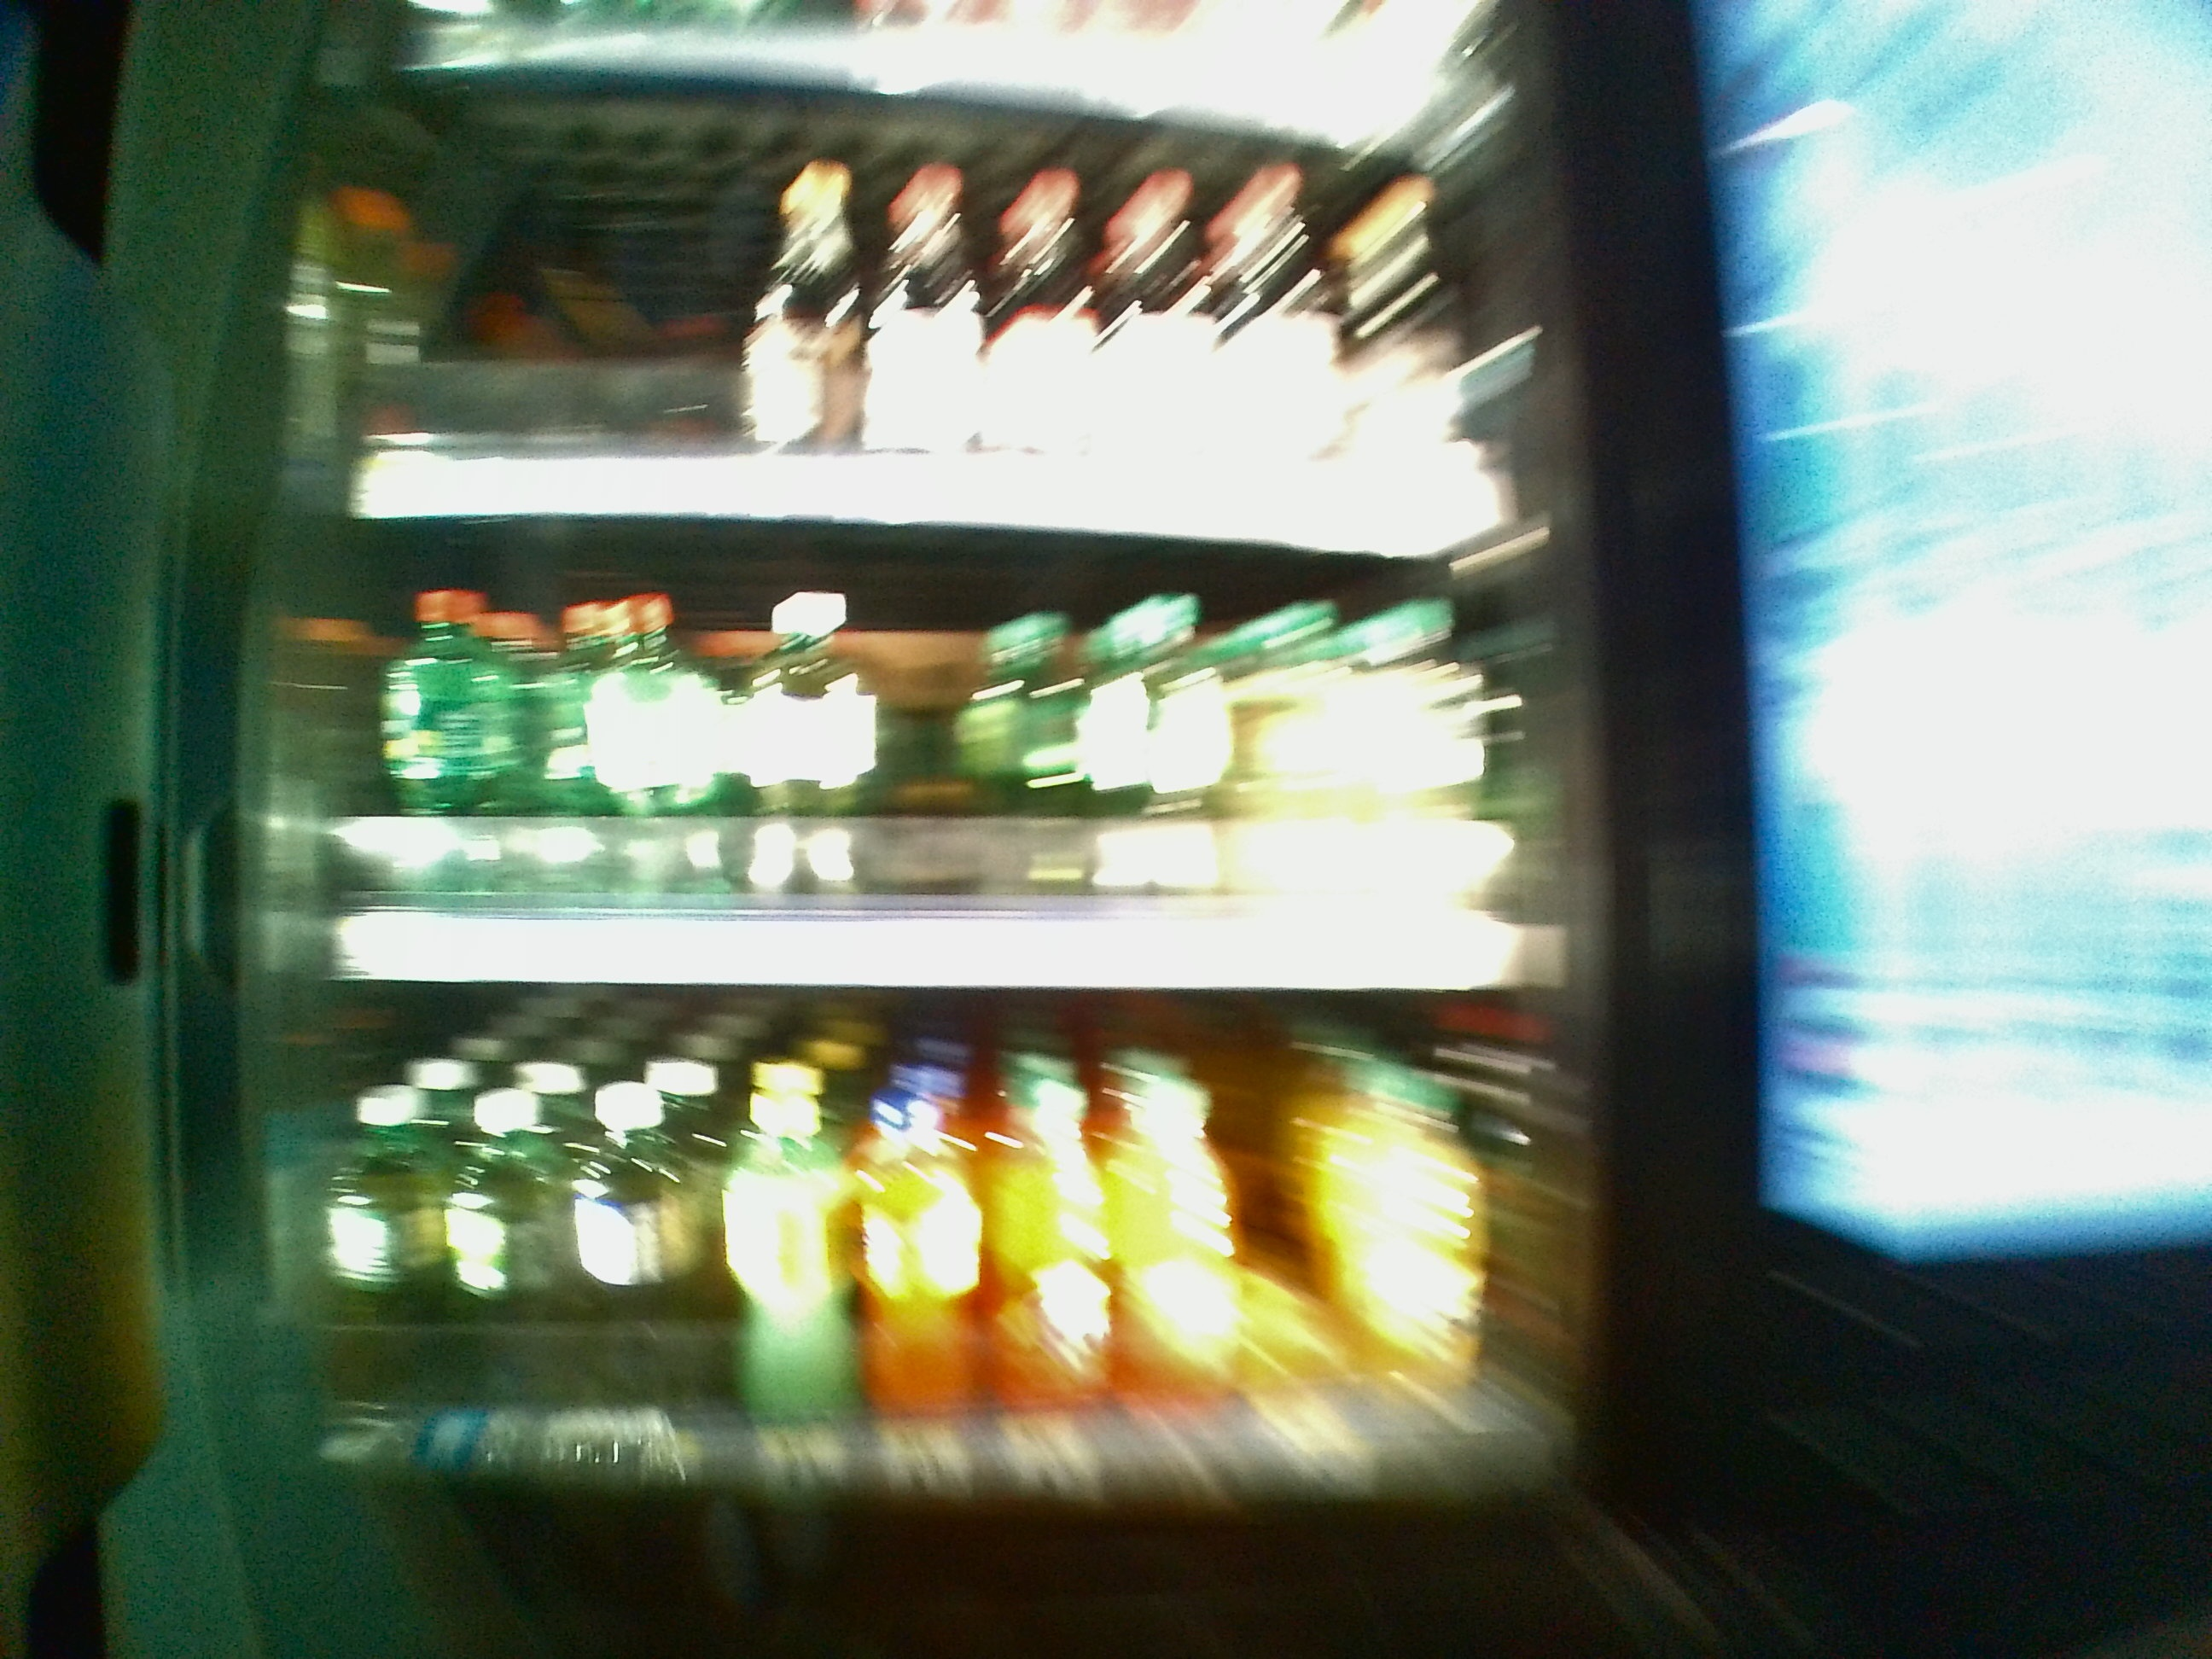shelf: (308, 995, 1595, 1485), (308, 518, 1587, 990)
